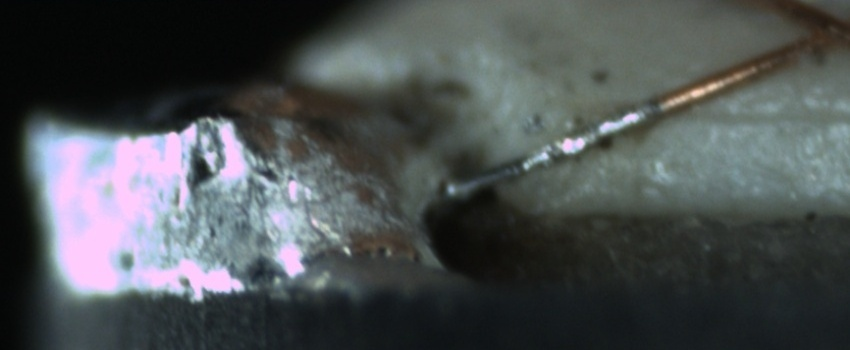CL: (774, 5, 848, 59)
DL: (674, 81, 846, 151)
TS: (438, 101, 659, 201)
TTCW: (433, 65, 702, 200)
